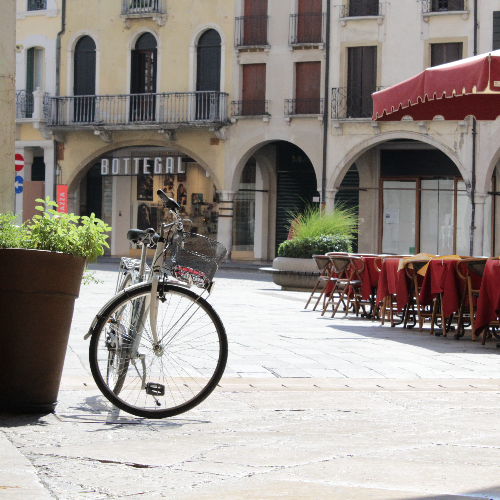Bycycle: (84, 188, 230, 426)
